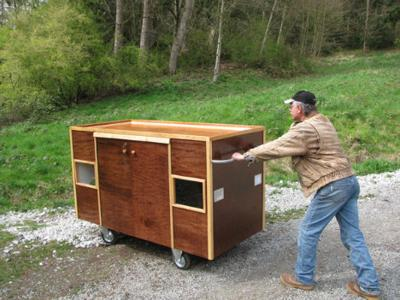person: (232, 91, 384, 298)
